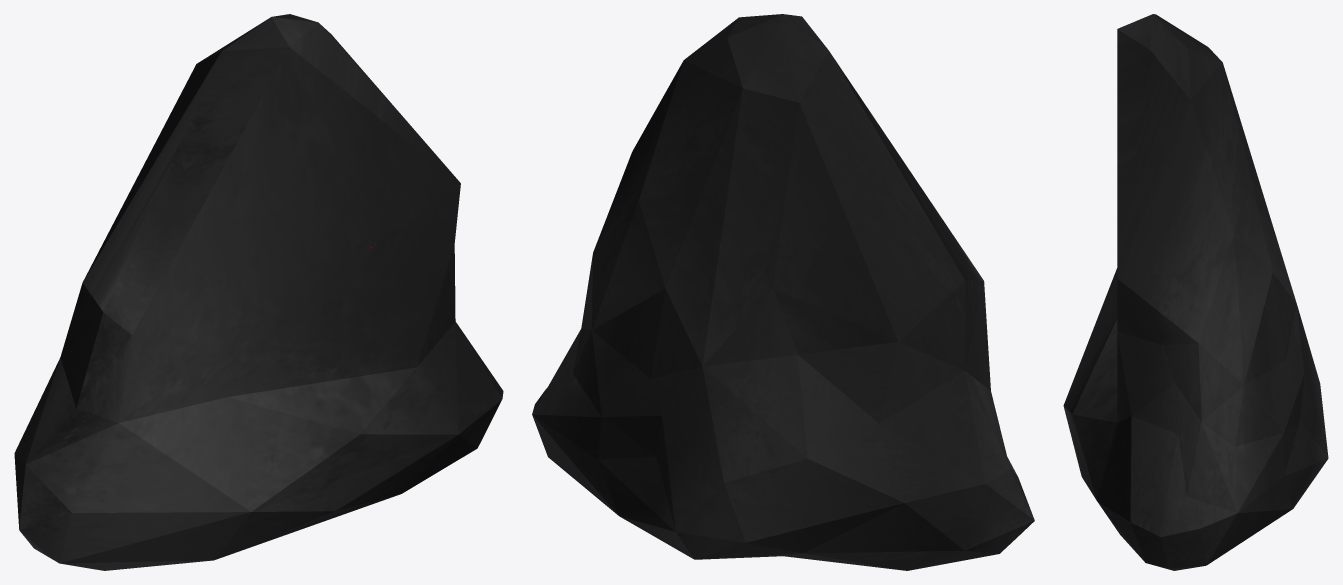
Rendered from Template_Fear.fbx.
The picture shows the model from 3 angles, left to right: view 1: azimuth 30°, elevation 25°; view 2: azimuth 150°, elevation 25°; view 3: azimuth 270°, elevation 25°; orthographic projection. The views are drawn at different scales.
Parts seen in each view (by area): view 1: Template_Fear; view 2: Template_Fear; view 3: Template_Fear.
Part boxes in pixels (x1,y1,x2,y2): Template_Fear: (14, 14, 503, 570); Template_Fear: (532, 14, 1034, 570); Template_Fear: (1063, 14, 1328, 570).
Size of the model in its own units: 278 by 276 by 137.
